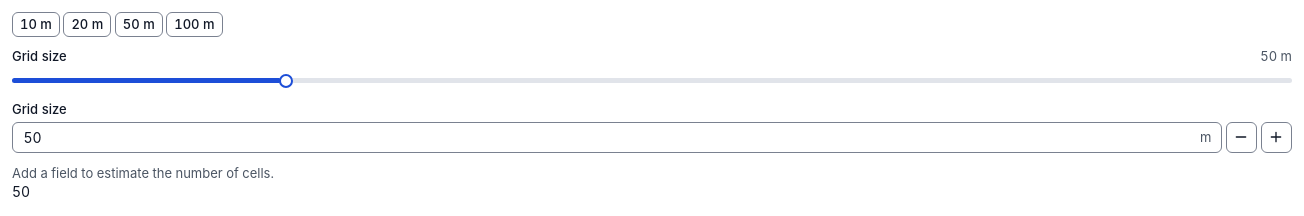
Test: GridSizeField › applies a preset
Click the button "100 m": (194, 24) [166, 12, 222, 36]
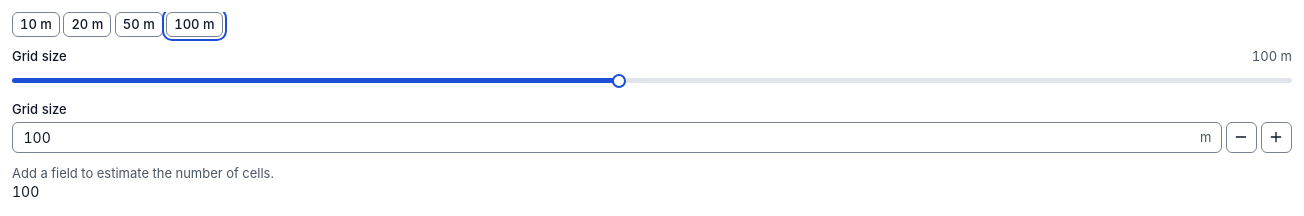
Result: the text with test id "grid-size" reads "100" at [12, 182, 39, 200]
